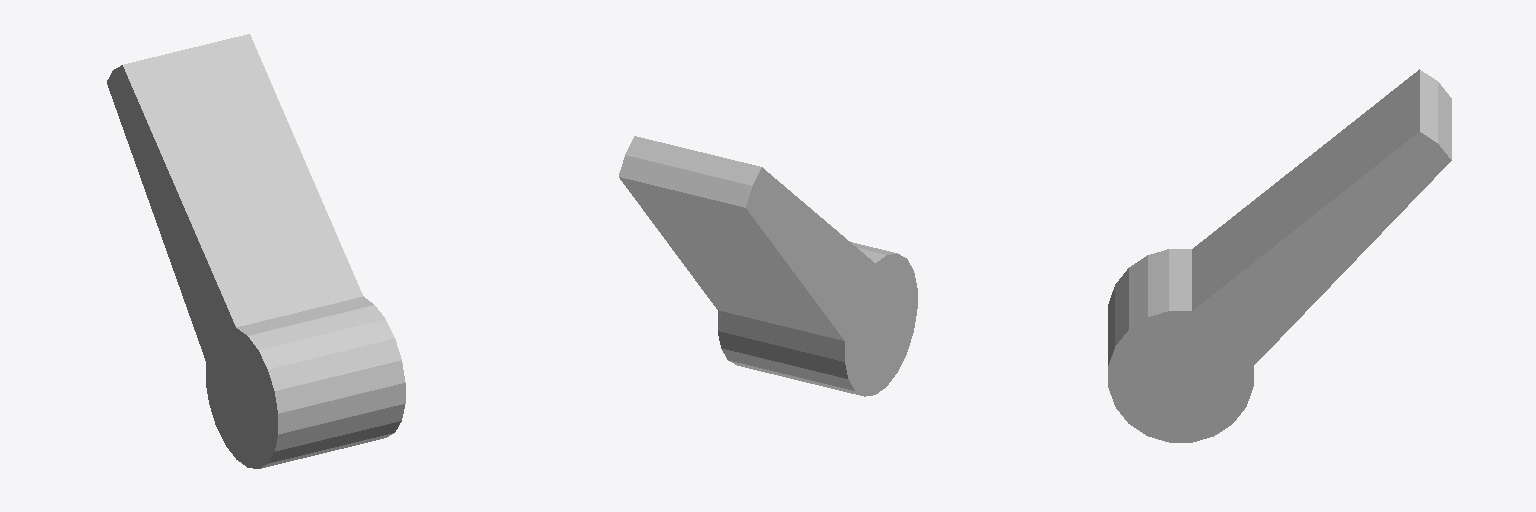
File: switch.obj
The picture shows the model from 3 angles: view 1: azimuth 30°, elevation 25°; view 2: azimuth 150°, elevation 25°; view 3: azimuth 270°, elevation 25°; orthographic projection.
Parts seen in each view (by area): view 1: pCylinder1; view 2: pCylinder1; view 3: pCylinder1.
Part boxes in pixels (x1,y1,x2,y2): pCylinder1: (107,34,405,468); pCylinder1: (619,136,917,396); pCylinder1: (1108,69,1451,442).
Bounding box in the file's own units: 2 × 4.67 × 4.67.